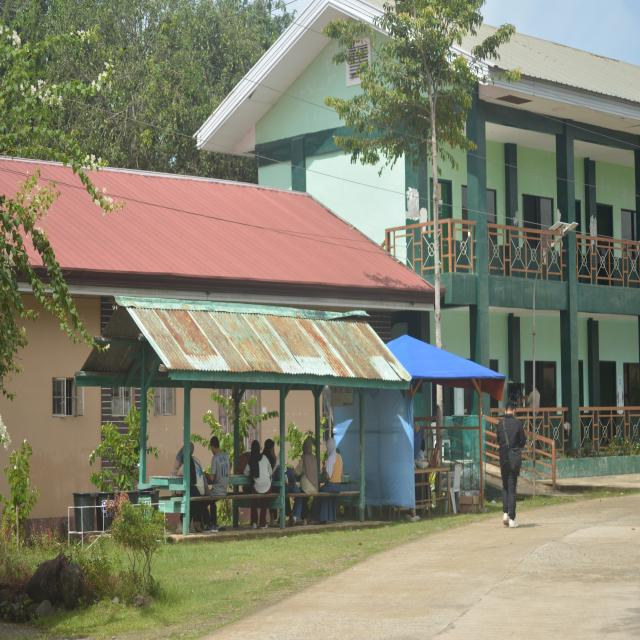person: (497, 401, 526, 527), (289, 438, 318, 493), (245, 440, 272, 494), (206, 436, 230, 496), (320, 438, 342, 493)
